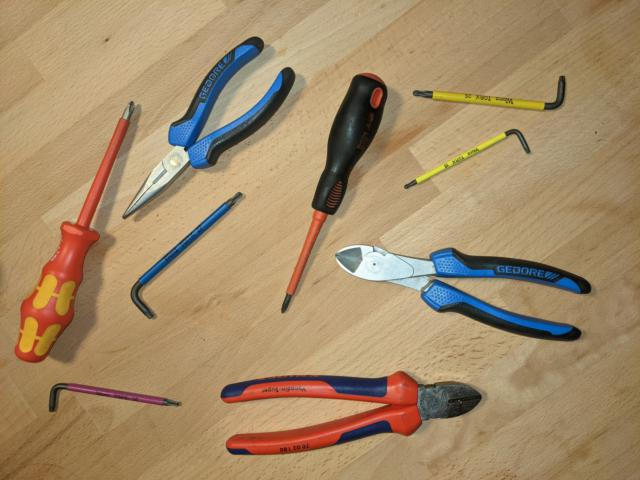Inbusschlüssel: (128, 188, 247, 322), (401, 125, 533, 193), (410, 71, 569, 113), (45, 380, 184, 417)
Schraubendreher: (11, 98, 140, 367), (278, 69, 390, 316)
Seitenschneider: (330, 242, 595, 346), (218, 365, 484, 459)
Zange: (119, 34, 297, 223)
